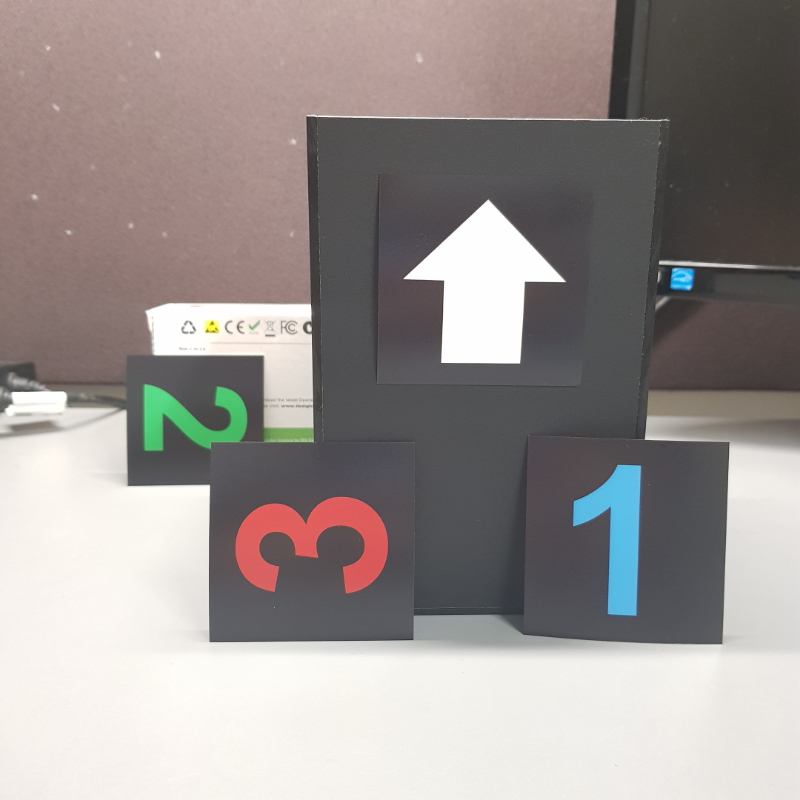One-6: (534, 447, 713, 633)
Three-8: (219, 448, 408, 634)
UA-1: (386, 182, 575, 377)
